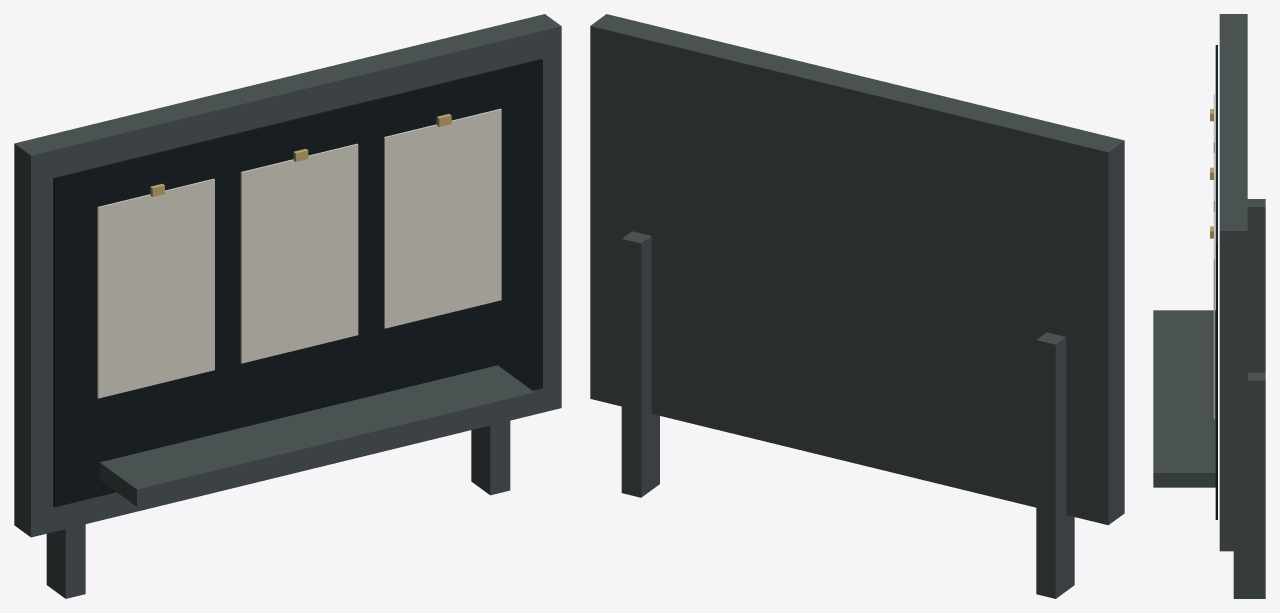
File: blender_objective_board_2.glb
3 views of the same model, side by side, from view 1: azimuth 30°, elevation 25°; view 2: azimuth 150°, elevation 25°; view 3: azimuth 270°, elevation 25° (orthographic). The views are drawn at different scales.
Visible parts, largest first — view 1: blender_objective_board_2; view 2: blender_objective_board_2; view 3: blender_objective_board_2.
Boxes of the visible parts, box(x1,y1,x2,y2) form: blender_objective_board_2: box(14, 14, 561, 598); blender_objective_board_2: box(590, 14, 1124, 598); blender_objective_board_2: box(1153, 14, 1265, 598).
Bounding box in the file's own units: 0.64 × 0.53 × 0.14.
Materials: 1 (1 with a texture image).
